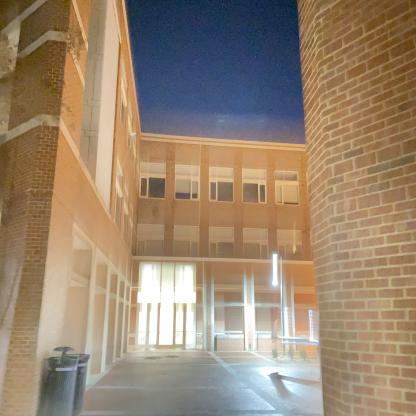eb2: (40, 22, 317, 352)
